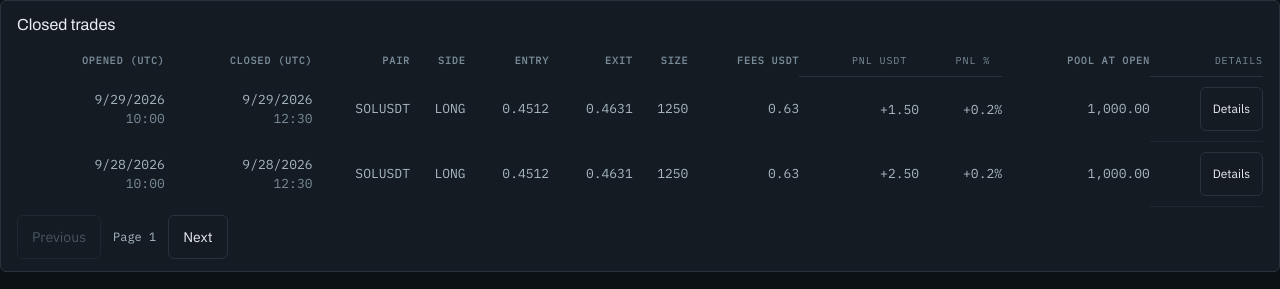
Scenario: TradesTable › disables Next and says it is loading while the next page is on its way, keeping the page
Check: the table is shown, box top-left (17, 45), bottom-right (1263, 207)
Click the button "Next" at (198, 237), box top-left (168, 215), bottom-right (228, 259)
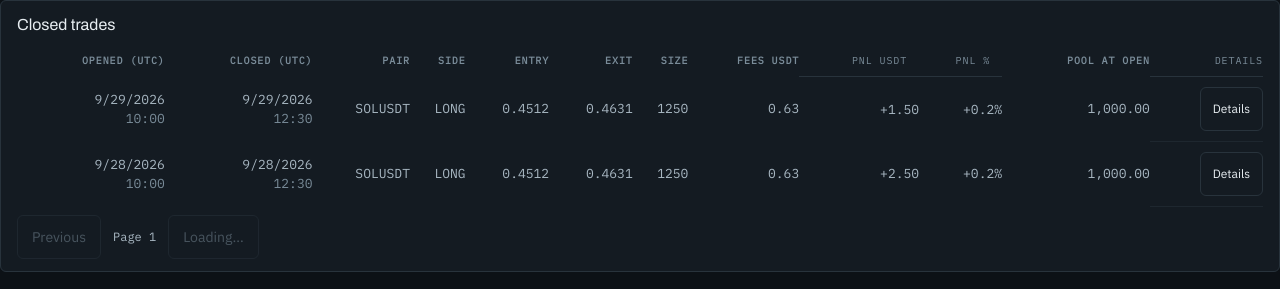
Check: the text "Page 1" is shown, box top-left (113, 229), bottom-right (156, 245)
Check: the button "Loading…" is disabled, box top-left (168, 215), bottom-right (259, 259)
